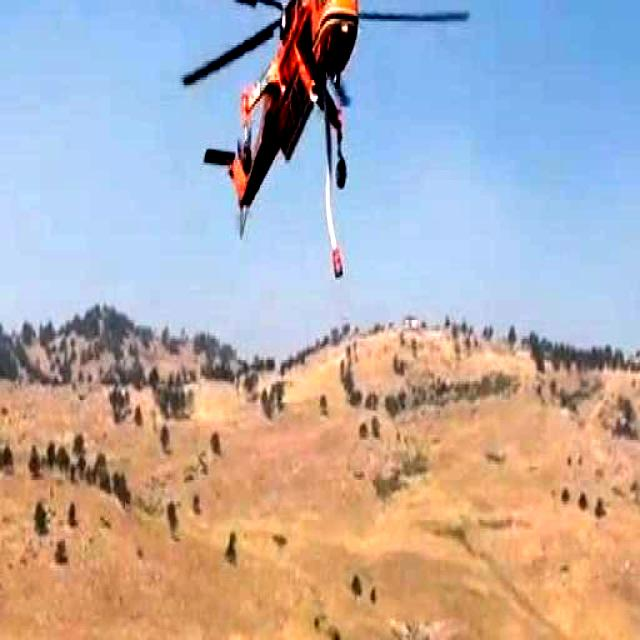drone: (120, 0, 462, 278)
